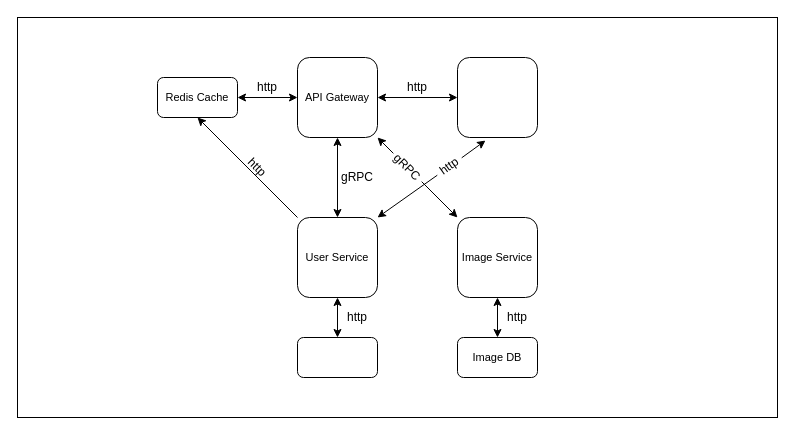
Some shapes in this 795 by 435 pixel diagram are drawn without their labels. The shapes that lost their labels are listed below. From the top down, each one's box as (x1, y1, x2, y2) in pixels, then its label:
(456, 56, 538, 138): Service Discovery
(296, 336, 378, 378): User DB
